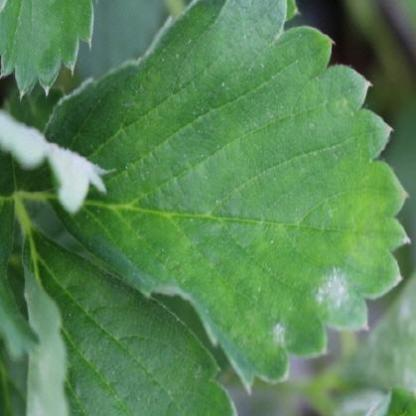Strawberry_Powdery_Mildew_Leaf: (21, 0, 414, 397), (0, 107, 118, 218)
